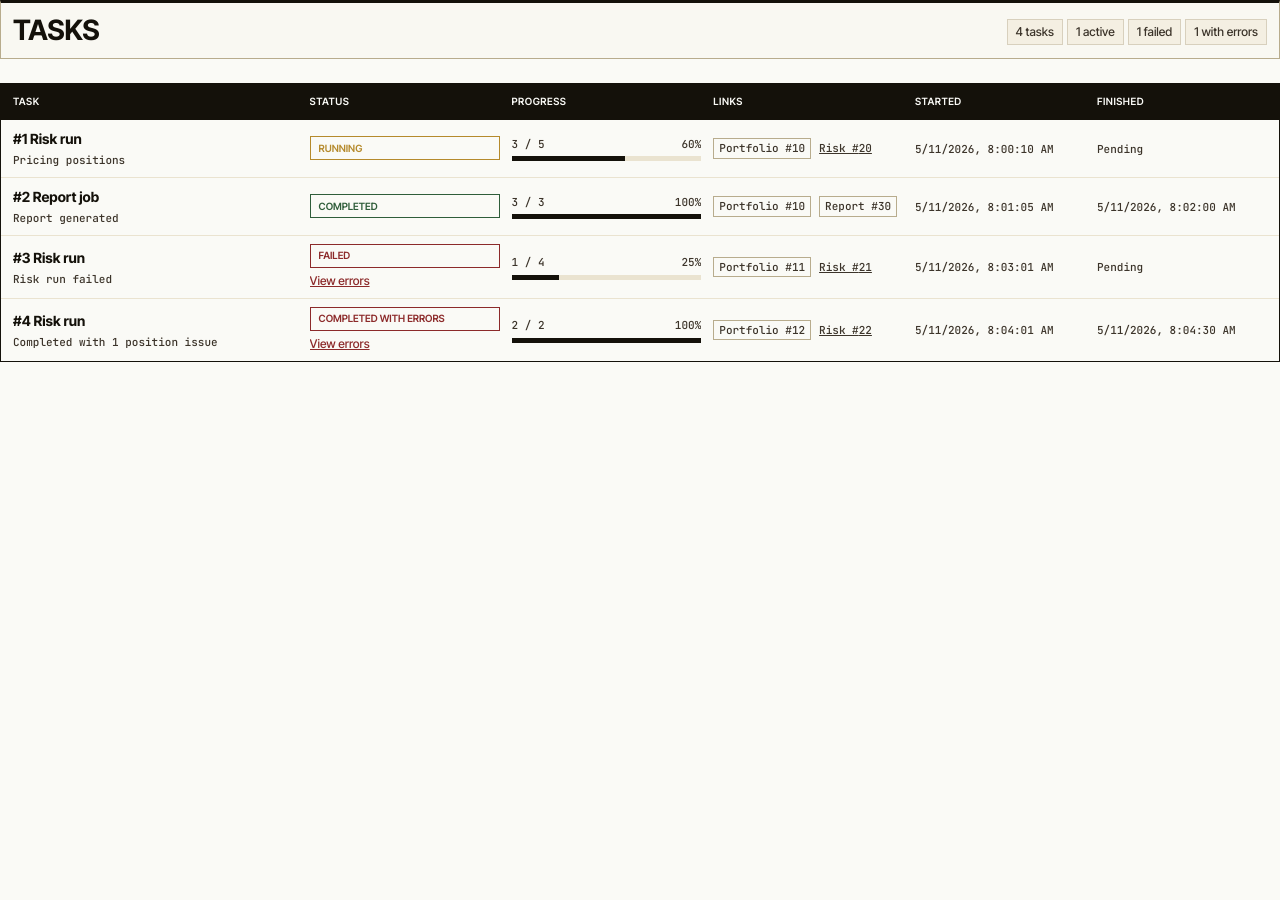
Test case: Tasks › opens a dialog listing failing positions for a completed_with_errors task
Click the button "View errors" below "Completed with errors" at (340, 344), box top-left (310, 335), bottom-right (370, 353)
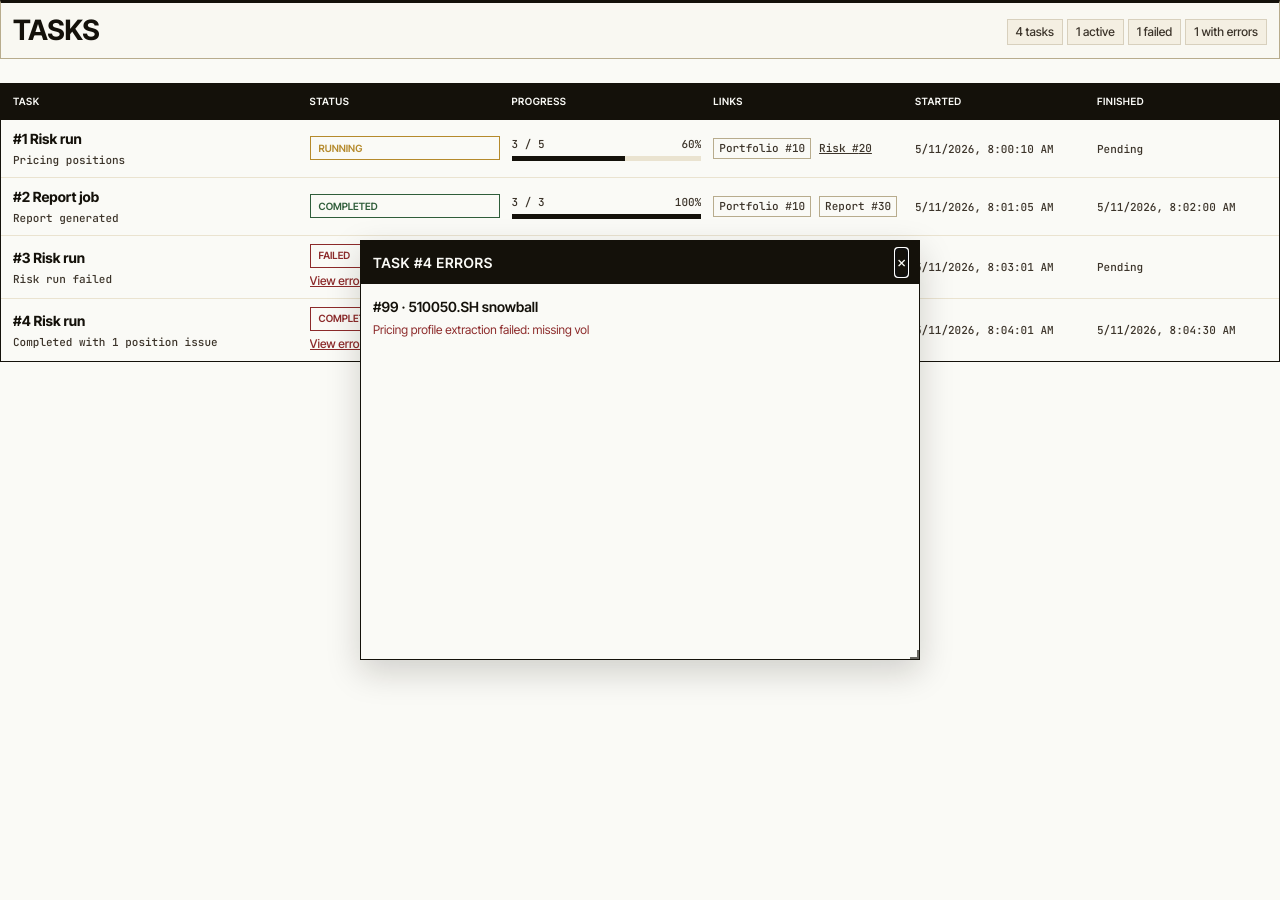
Expected: the text "#99 · 510050.SH snowball" is shown, top-left (373, 298), bottom-right (538, 315)
Expected: the text "Pricing profile extraction failed: missing vol" is shown, top-left (373, 322), bottom-right (589, 337)
